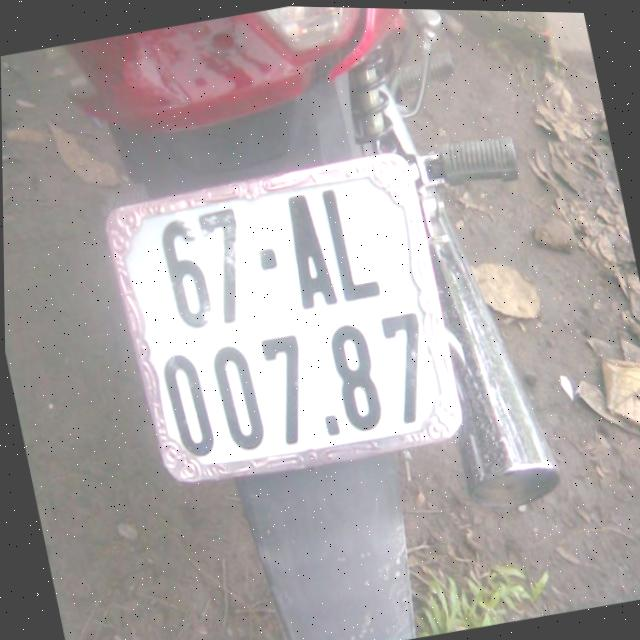motorcycle: (31, 1, 622, 640)
plate: (96, 144, 472, 494)
